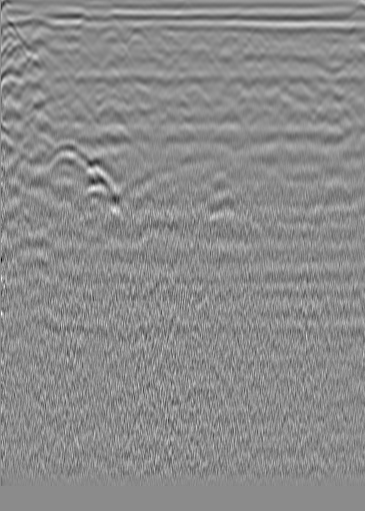가스: (80, 163, 113, 198)
상수: (311, 34, 331, 54)
오수: (28, 25, 48, 45)
우수: (186, 38, 206, 58)
